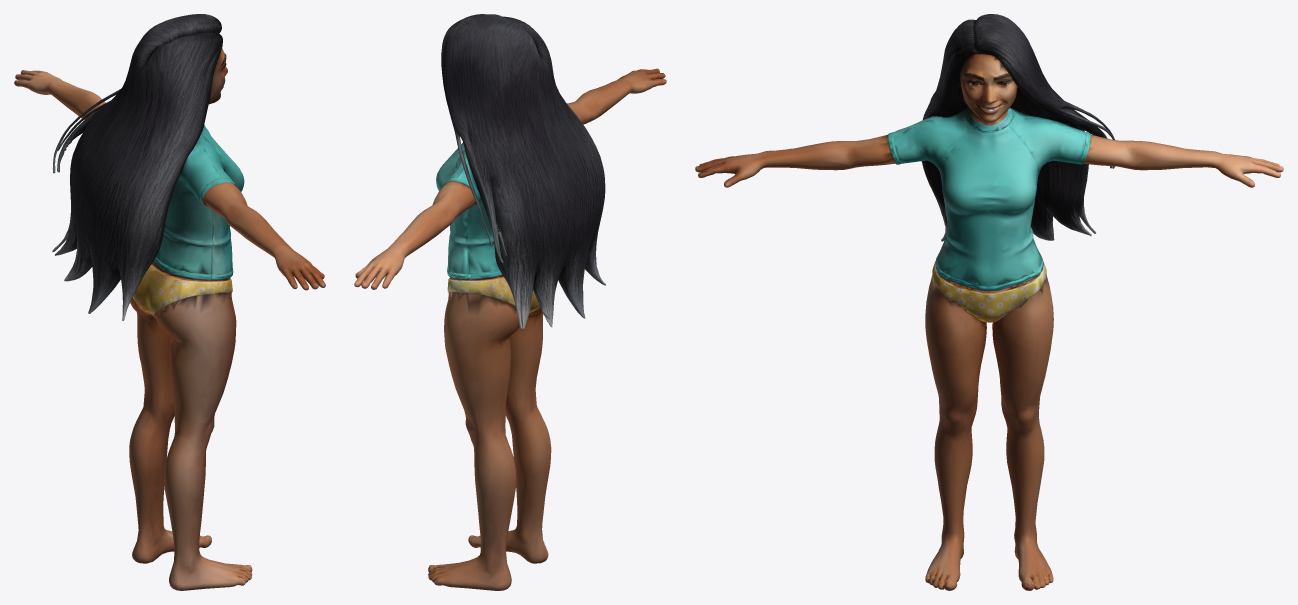
File: the-wahine.glb
3 views of the same model, side by side, from view 1: azimuth 30°, elevation 25°; view 2: azimuth 150°, elevation 25°; view 3: azimuth 270°, elevation 25° (orthographic).
Visible parts, largest first — view 1: the-wahine; view 2: the-wahine; view 3: the-wahine.
Part boxes in pixels (x1=…): the-wahine: x1=14, y1=14, x2=325, y2=590; the-wahine: x1=354, y1=14, x2=666, y2=590; the-wahine: x1=695, y1=14, x2=1283, y2=590.
Size of the model in its own units: 0.2595 by 0.9795 by 0.9494.
Materials: 1 (1 with a texture image).
